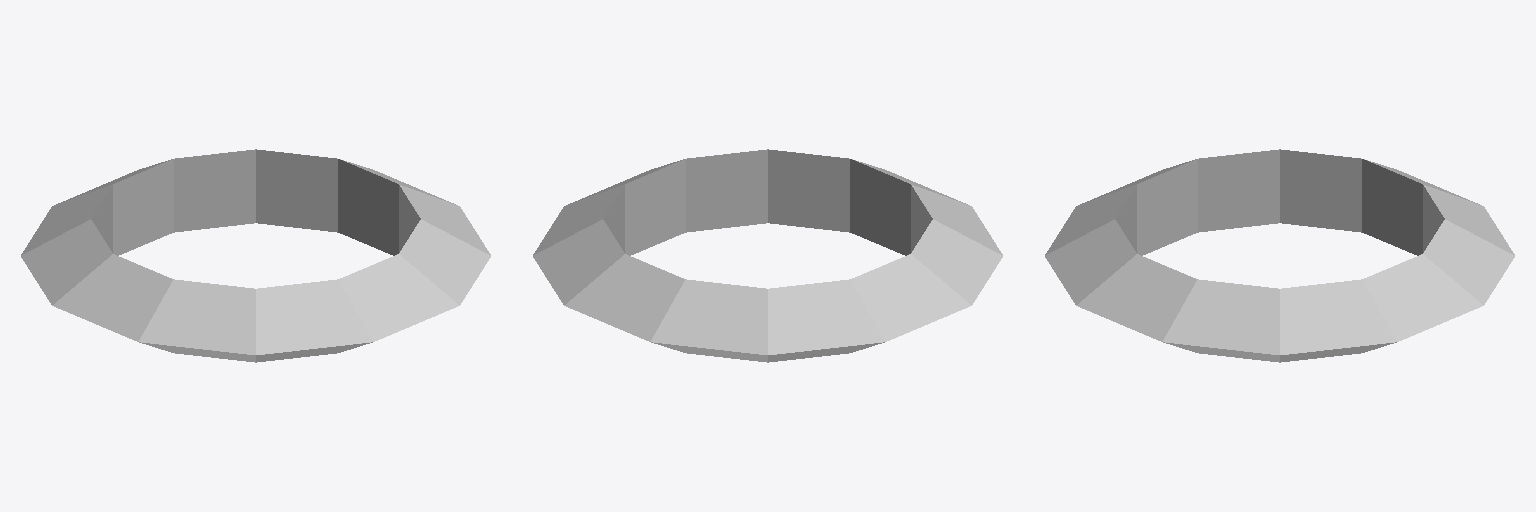
File: torusLowPoly.obj
3 views of the same model, side by side, from view 1: azimuth 30°, elevation 25°; view 2: azimuth 150°, elevation 25°; view 3: azimuth 270°, elevation 25° (orthographic).
Visible parts, largest first — view 1: Torus; view 2: Torus; view 3: Torus.
Boxes of the visible parts, x1,y1,x2,y2 form: Torus: [21, 149, 490, 362]; Torus: [533, 149, 1002, 362]; Torus: [1045, 149, 1514, 362].
Size of the model in its own units: 2.5 by 0.433 by 2.5.